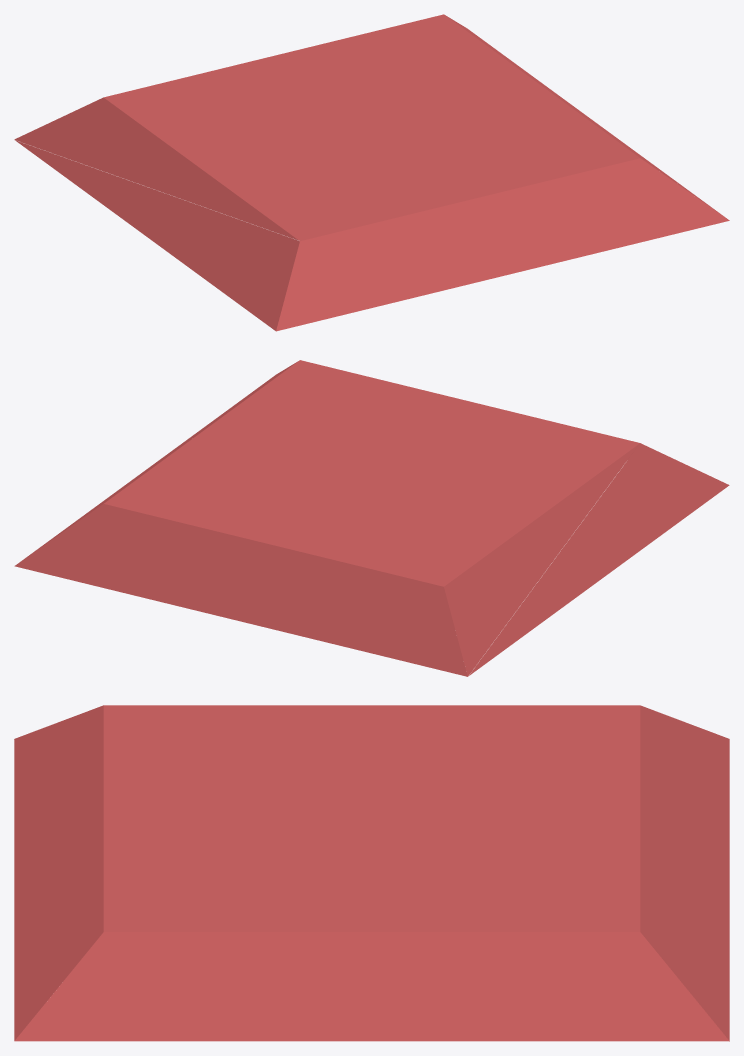
File: cv_lift_btn.glb
3 renders of one model, top to bottom at view 1: azimuth 30°, elevation 25°; view 2: azimuth 150°, elevation 25°; view 3: azimuth 270°, elevation 25°, orthographic. The views are drawn at different scales.
Parts seen in each view (by area): view 1: cv_lift_btn_col; view 2: cv_lift_btn_col; view 3: cv_lift_btn_col.
Part boxes in pixels (x1,y1,x2,y2): cv_lift_btn_col: (14, 14, 729, 331); cv_lift_btn_col: (14, 360, 729, 676); cv_lift_btn_col: (14, 705, 729, 1041).
Bounding box in the file's own units: 1 × 0.1107 × 1.
